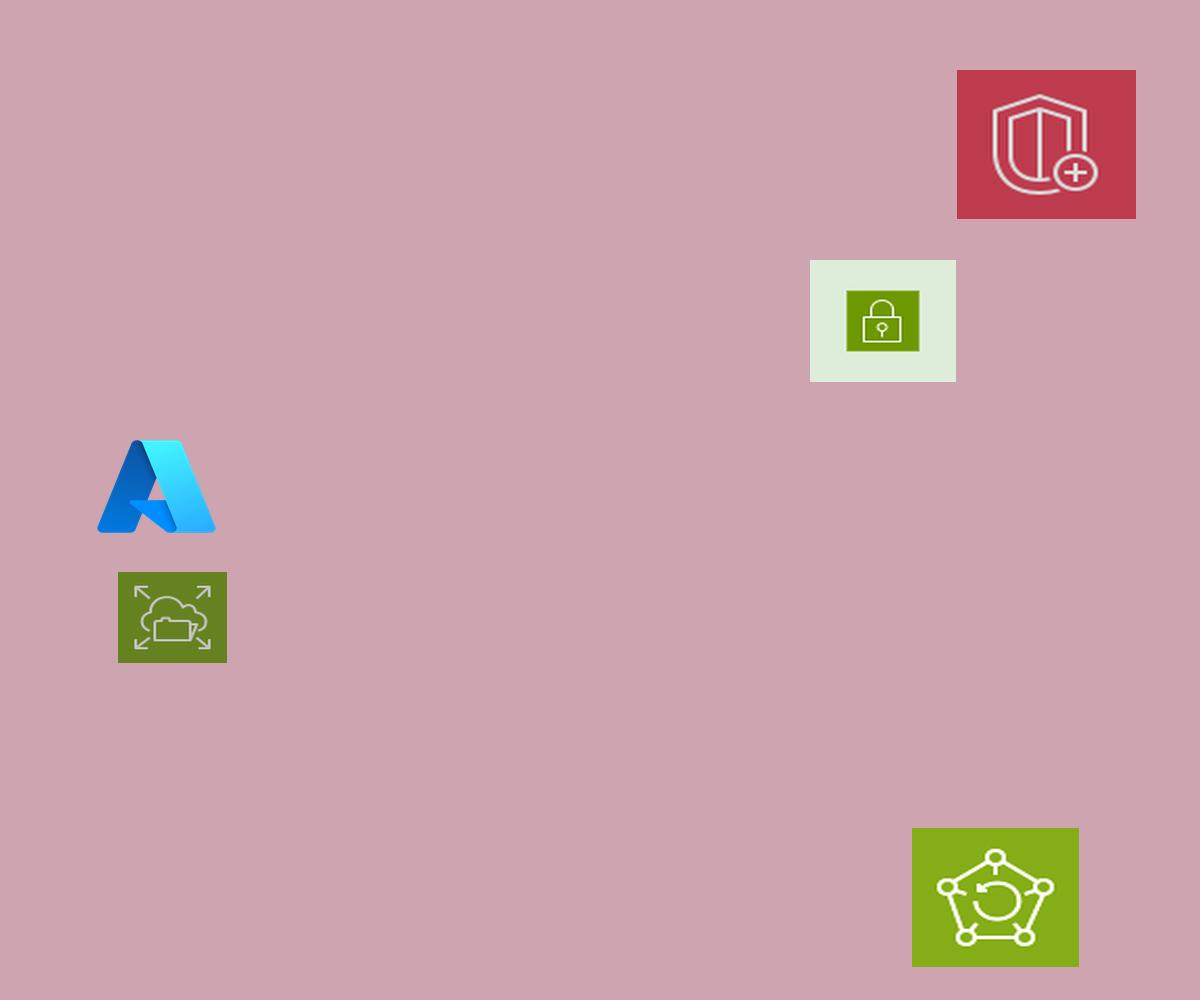AWS-Backup: (912, 828, 1079, 967)
AWS-EFS: (118, 572, 227, 663)
AWS-Public-subnet: (810, 260, 956, 382)
AWS-Shield: (957, 70, 1136, 219)
Azure_services: (92, 433, 221, 540)
